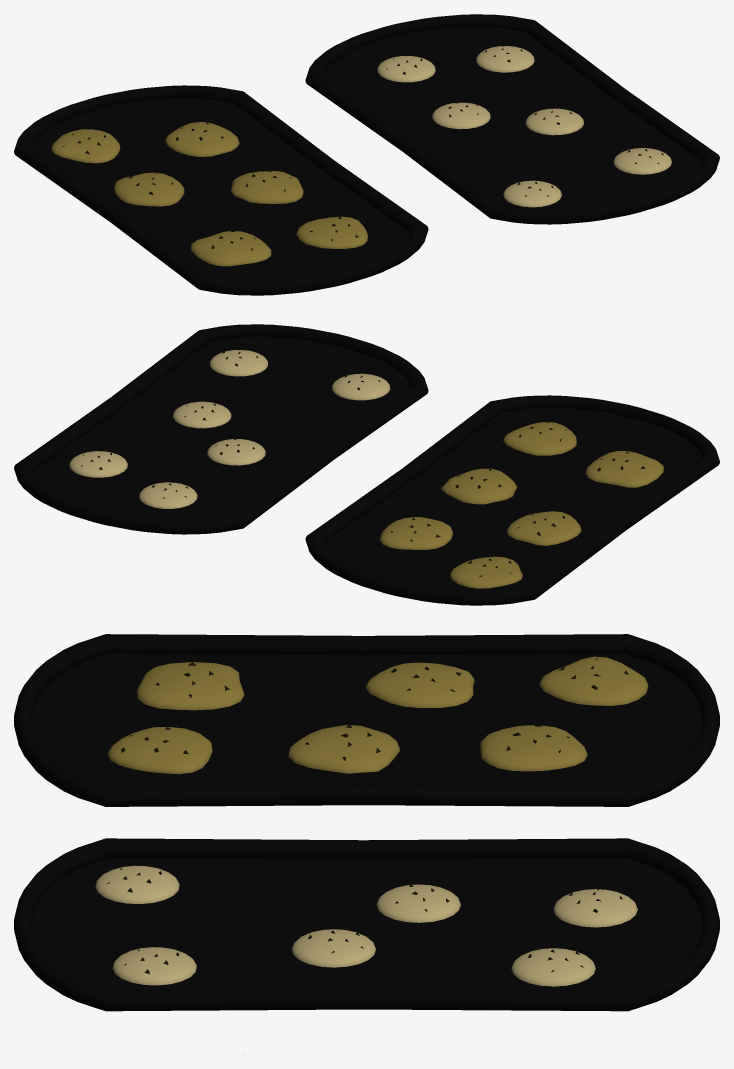
The model's file is Tray.fbx.
The picture shows the model from 3 angles, top to bottom: view 1: azimuth 30°, elevation 25°; view 2: azimuth 150°, elevation 25°; view 3: azimuth 270°, elevation 25°; orthographic projection. The views are drawn at different scales.
Parts seen in each view (by area): view 1: pTorus5, pTorus4; view 2: pTorus4, pTorus5; view 3: pTorus4, pTorus5.
Part boxes in pixels (box(x1,y1,x2,y2)): pTorus5: box(305, 14, 719, 224); pTorus4: box(14, 85, 428, 295); pTorus4: box(305, 395, 719, 605); pTorus5: box(14, 324, 428, 534); pTorus4: box(14, 634, 719, 806); pTorus5: box(14, 838, 719, 1011).
Bounding box in the file's own units: 42.66 × 5.8 × 34.71.
